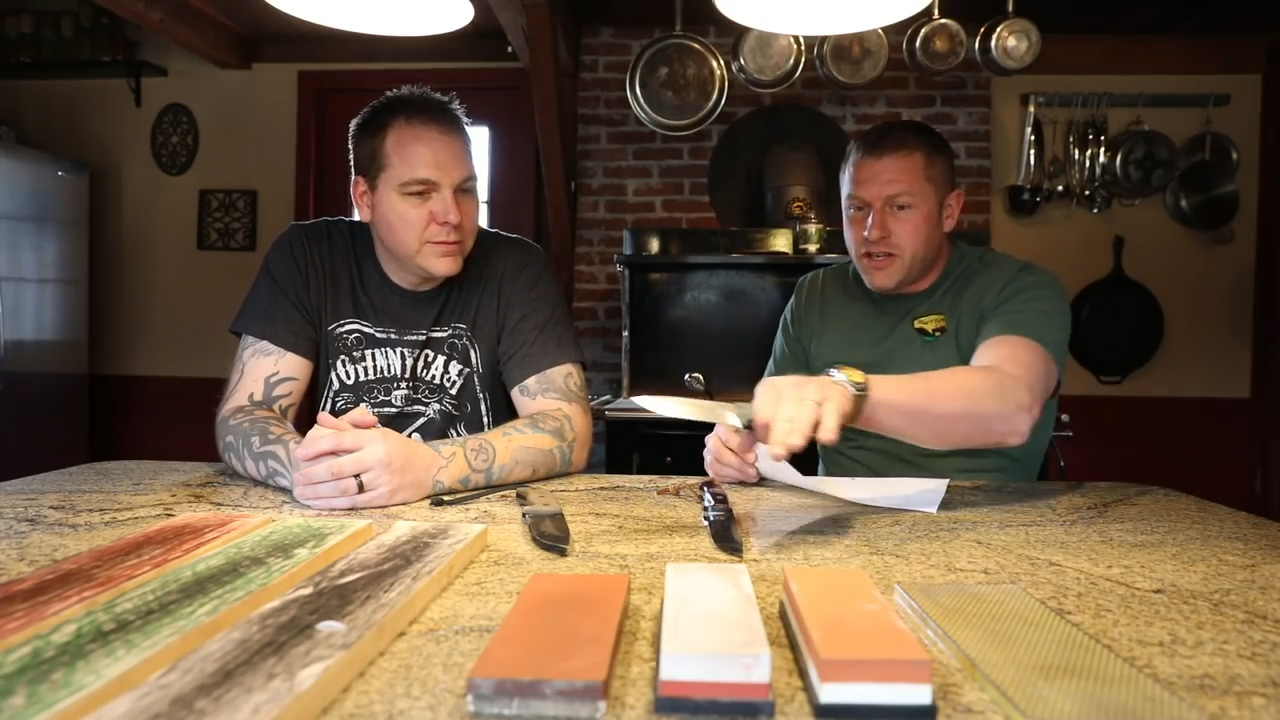knife: (619, 364, 838, 464)
